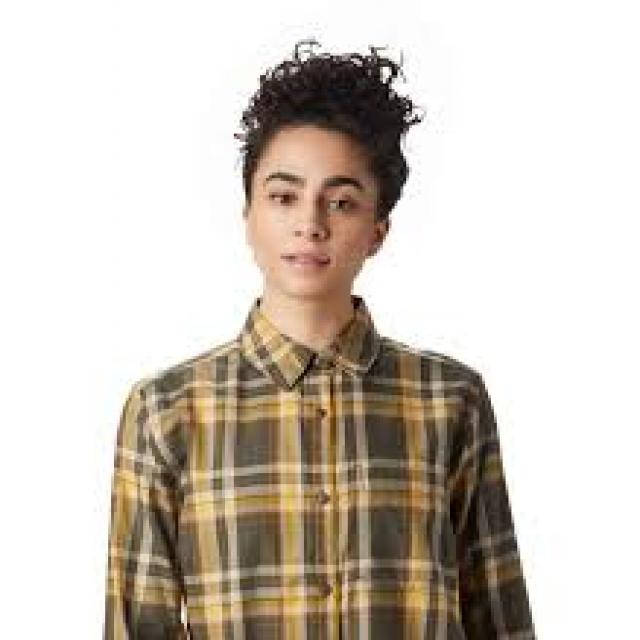plaid: (102, 295, 532, 640)
